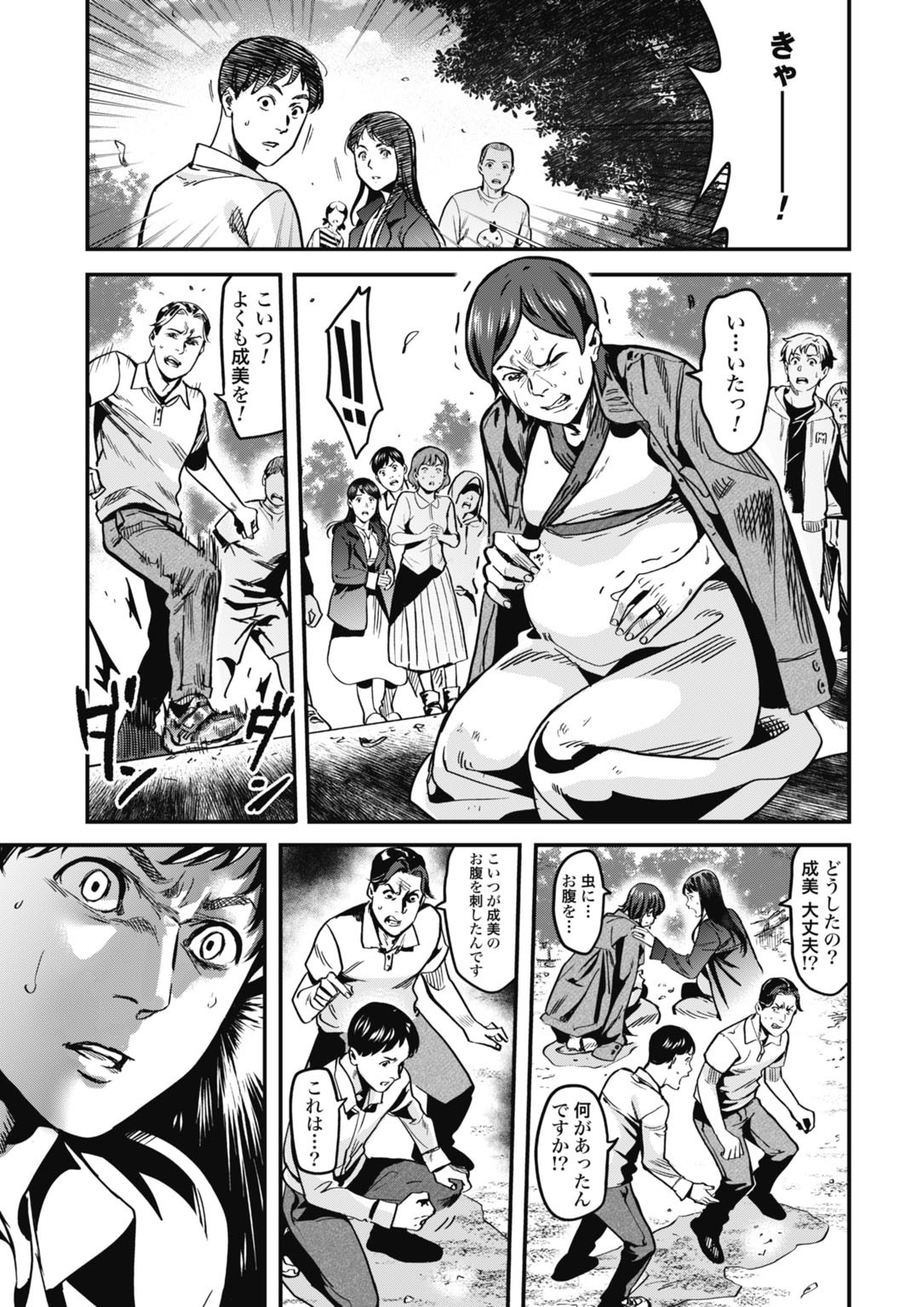bubbles: (686, 285, 783, 466), (532, 1076, 633, 1227), (204, 275, 287, 445), (432, 848, 517, 1004), (776, 846, 850, 1001), (287, 1060, 354, 1183), (546, 846, 616, 962)
